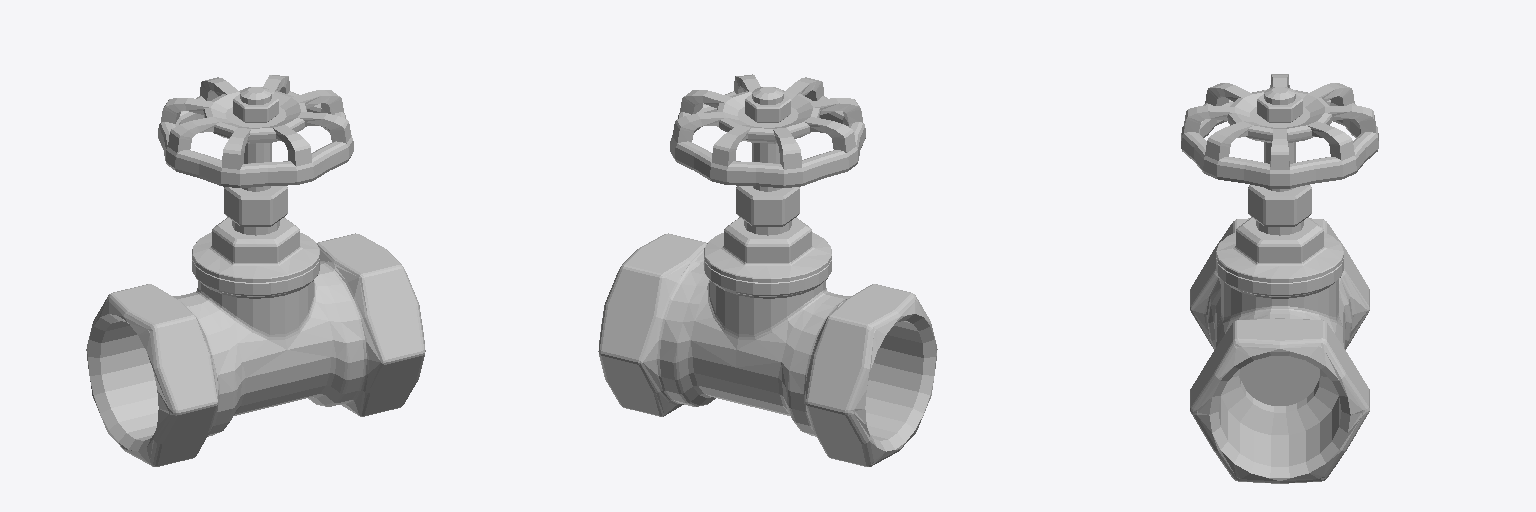
File: centervalve.obj
3 renders of one model, left to right at view 1: azimuth 30°, elevation 25°; view 2: azimuth 150°, elevation 25°; view 3: azimuth 270°, elevation 25°, orthographic.
Visible parts, largest first — view 1: Bronze_valve_Circle.013; view 2: Bronze_valve_Circle.013; view 3: Bronze_valve_Circle.013.
Part boxes in pixels (x1,y1,x2,y2): Bronze_valve_Circle.013: (86, 75, 425, 466); Bronze_valve_Circle.013: (598, 74, 937, 466); Bronze_valve_Circle.013: (1181, 74, 1378, 483).
Bounding box in the file's own units: 186 × 223 × 120.